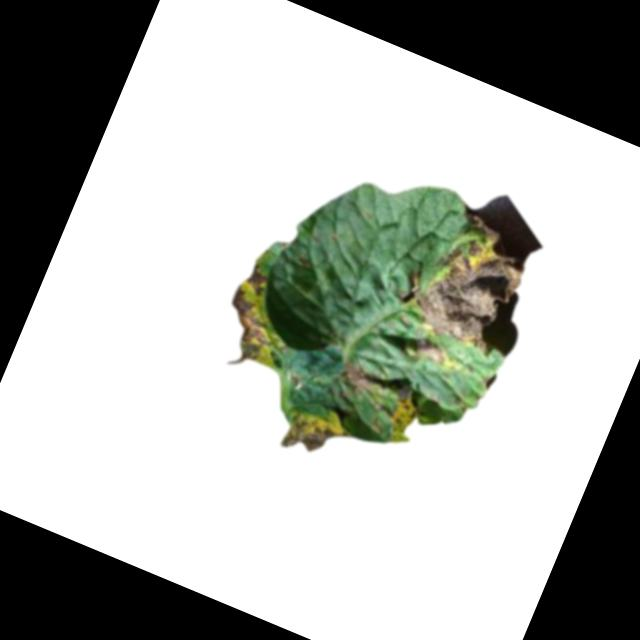Early_blight: (402, 202, 539, 357), (212, 264, 314, 373), (276, 401, 345, 467), (338, 357, 380, 399), (386, 393, 423, 438), (408, 334, 451, 366)
